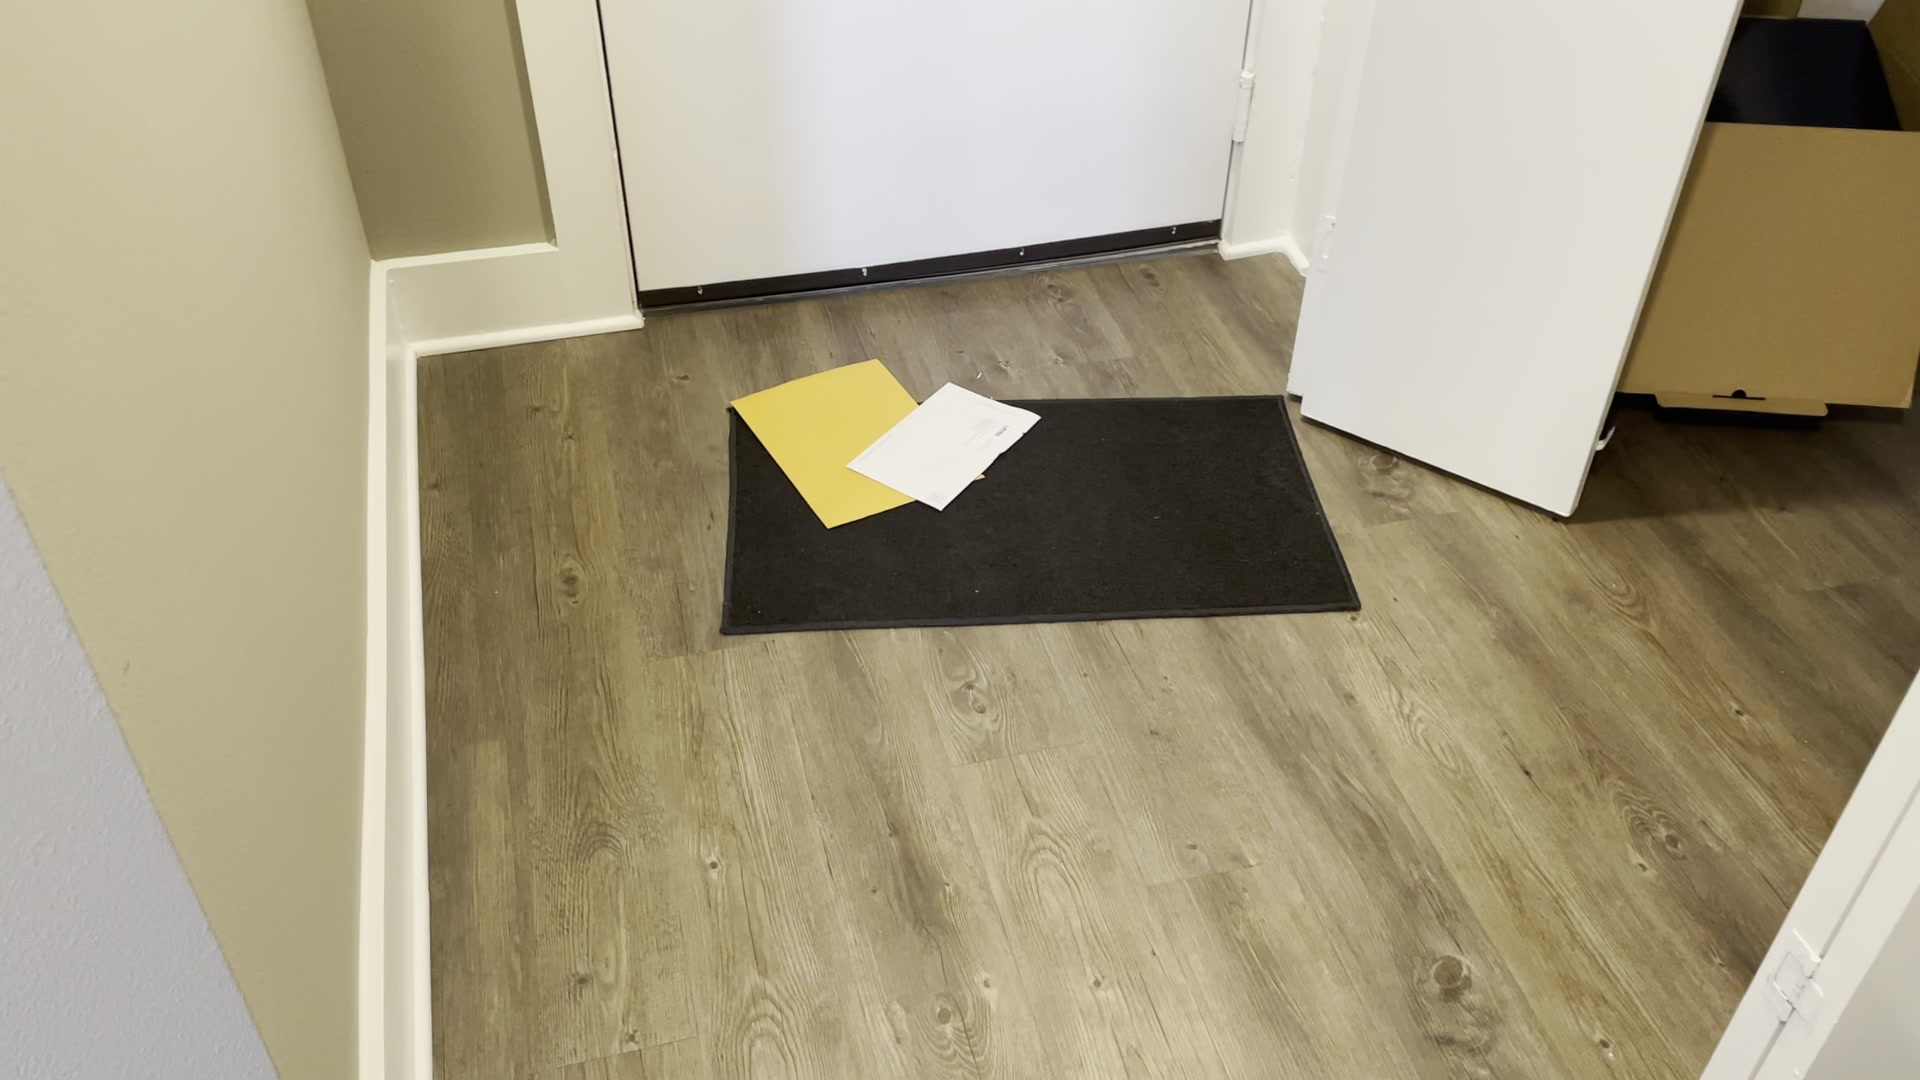envelope: (709, 347, 915, 533), (844, 380, 1059, 513)
